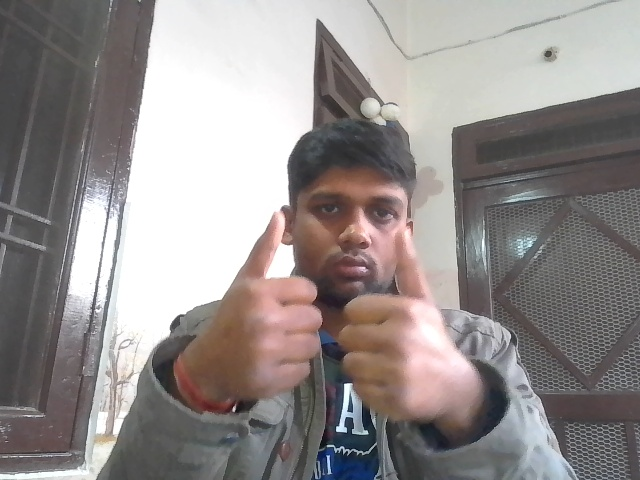Excellent: (187, 202, 452, 427)
